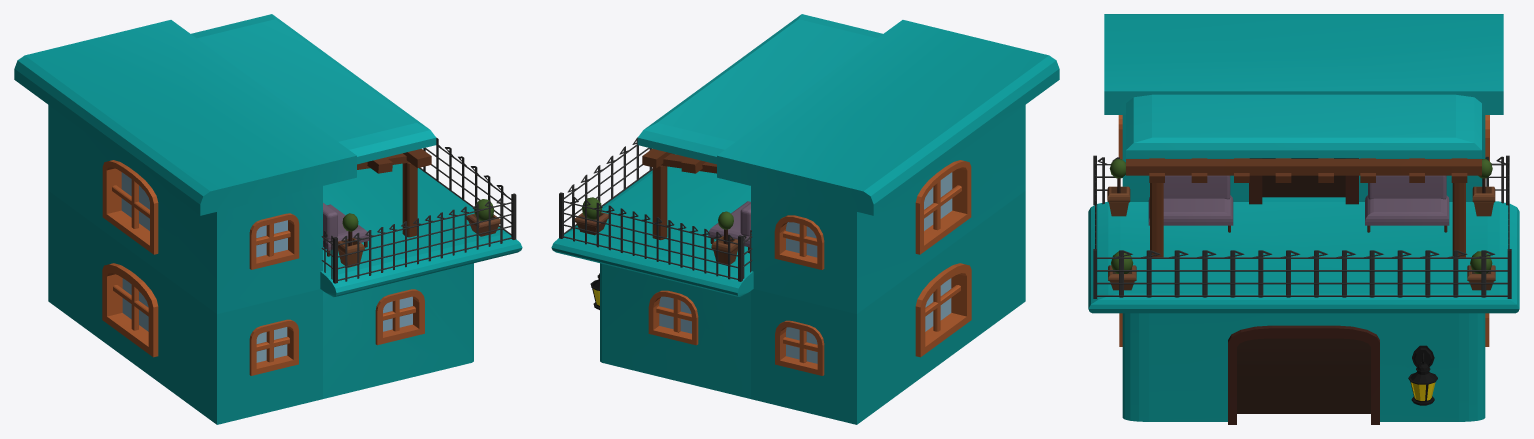
Rendered from turkuaz ev.fbx.
3 views of the same model, side by side, from view 1: azimuth 30°, elevation 25°; view 2: azimuth 150°, elevation 25°; view 3: azimuth 270°, elevation 25° (orthographic). The views are drawn at different scales.
Parts seen in each view (by area): view 1: Cube; view 2: Cube; view 3: Cube.
Part boxes in pixels (left/top/right/bottom): Cube: left=14, top=14, right=522, bottom=424; Cube: left=551, top=14, right=1059, bottom=424; Cube: left=1088, top=14, right=1519, bottom=424.
Size of the model in its own units: 601 by 440 by 656.
Materials: 1 (1 with a texture image).
